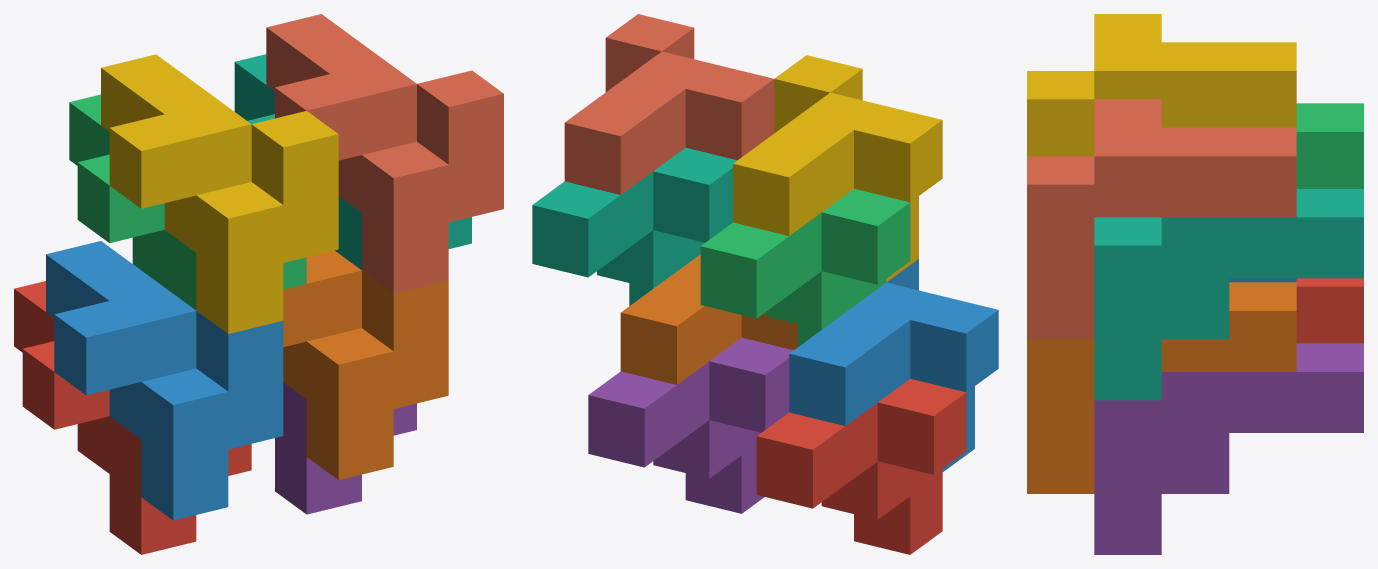
File: tiling.obj
3 views of the same model, side by side, from view 1: azimuth 30°, elevation 25°; view 2: azimuth 150°, elevation 25°; view 3: azimuth 270°, elevation 25° (orthographic). The views are drawn at different scales.
Parts seen in each view (by area): view 1: copy_1_domain_4, copy_1_domain_2, copy_1_domain_8, copy_1_domain_6, copy_1_domain_1, copy_1_domain_3, copy_1_domain_5, copy_1_domain_7; view 2: copy_1_domain_4, copy_1_domain_1, copy_1_domain_8, copy_1_domain_5, copy_1_domain_2, copy_1_domain_3, copy_1_domain_7, copy_1_domain_6; view 3: copy_1_domain_8, copy_1_domain_7, copy_1_domain_5, copy_1_domain_4, copy_1_domain_6, copy_1_domain_3, copy_1_domain_1.
Part boxes in pixels (x1=…): copy_1_domain_4: x1=101, y1=54, x2=338, y2=333; copy_1_domain_2: x1=46, y1=241, x2=283, y2=520; copy_1_domain_8: x1=266, y1=14, x2=503, y2=293; copy_1_domain_6: x1=283, y1=250, x2=448, y2=480; copy_1_domain_1: x1=14, y1=281, x2=251, y2=554; copy_1_domain_3: x1=69, y1=94, x2=306, y2=310; copy_1_domain_5: x1=275, y1=382, x2=416, y2=514; copy_1_domain_7: x1=234, y1=54, x2=471, y2=269; copy_1_domain_4: x1=733, y1=55, x2=942, y2=282; copy_1_domain_1: x1=756, y1=378, x2=966, y2=554; copy_1_domain_8: x1=564, y1=14, x2=774, y2=194; copy_1_domain_5: x1=588, y1=337, x2=793, y2=513; copy_1_domain_2: x1=789, y1=259, x2=998, y2=471; copy_1_domain_3: x1=700, y1=188, x2=910, y2=346; copy_1_domain_7: x1=532, y1=147, x2=736, y2=305; copy_1_domain_6: x1=620, y1=254, x2=797, y2=384; copy_1_domain_8: x1=1027, y1=99, x2=1296, y2=339; copy_1_domain_7: x1=1094, y1=189, x2=1363, y2=400; copy_1_domain_5: x1=1094, y1=343, x2=1363, y2=554; copy_1_domain_4: x1=1027, y1=14, x2=1296, y2=156; copy_1_domain_6: x1=1027, y1=282, x2=1296, y2=493; copy_1_domain_3: x1=1296, y1=103, x2=1363, y2=188; copy_1_domain_1: x1=1296, y1=278, x2=1363, y2=343.
Bounding box in the file's own units: 7 × 7 × 5.
